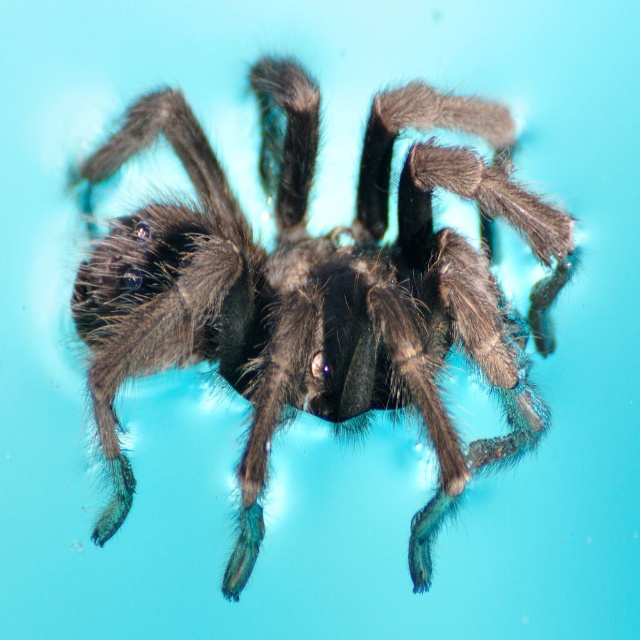Spider: (67, 55, 585, 601)
